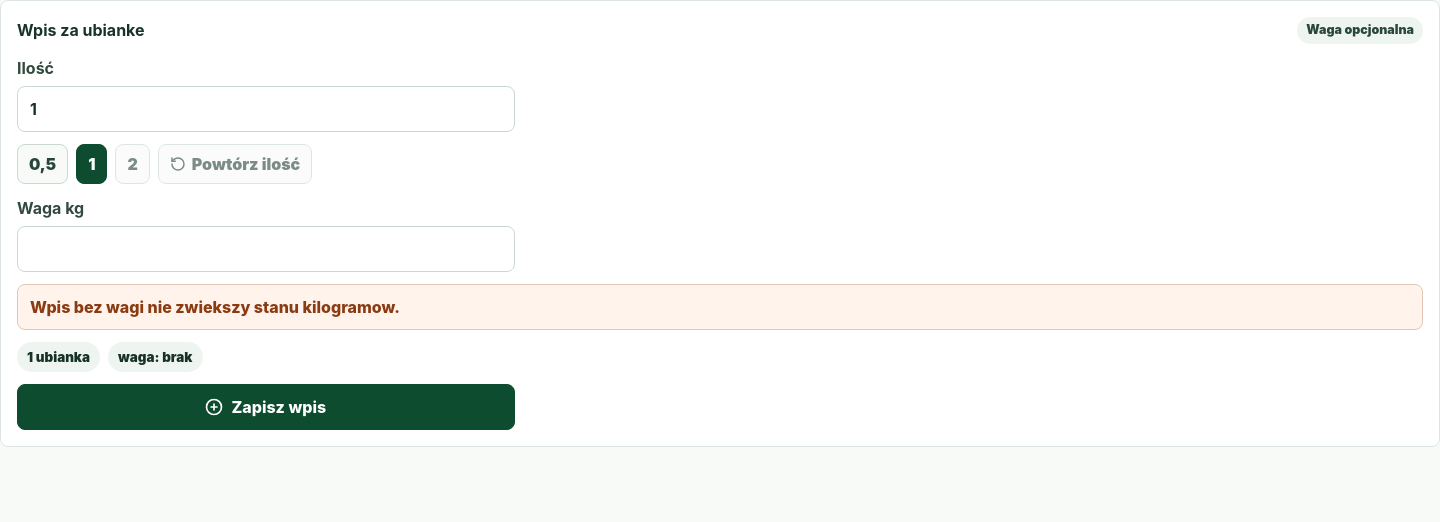
Test case: UbiankaEntryForm › blocks batch quantity when the plan does not allow it
Expected: the button "2" is disabled, [115,144,150,184]
Replace the text in the field labelled "Ilość" with "2" at coordinates (266, 109), box [17,86,514,132]
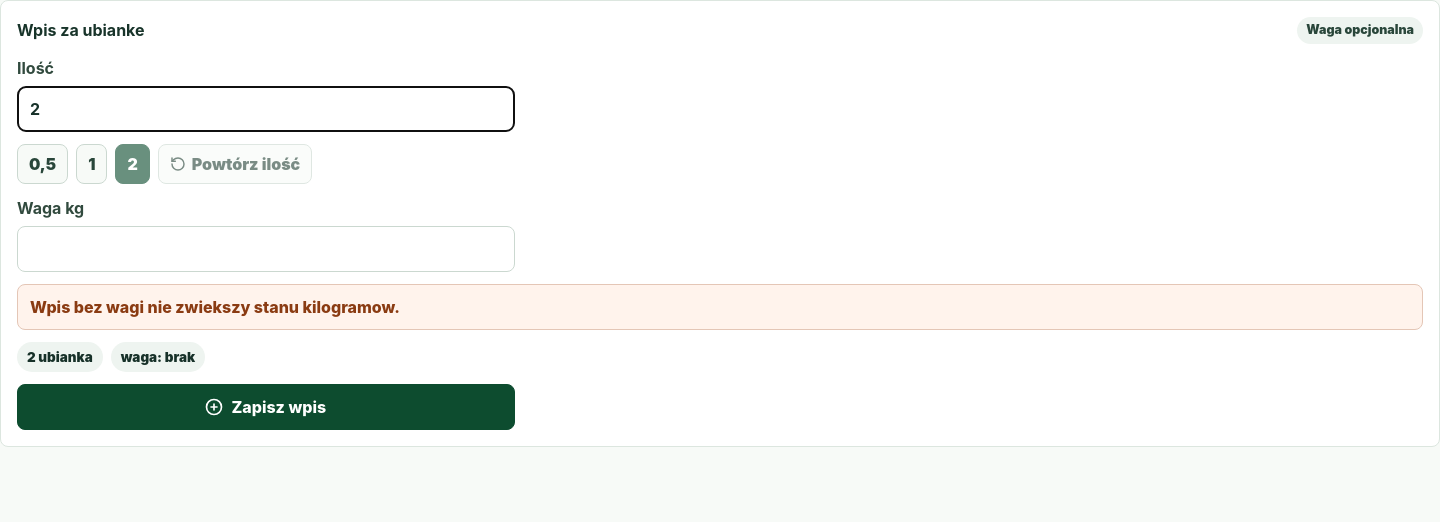
Click the button "Zapisz wpis" at coordinates (266, 407), box [17,384,514,430]
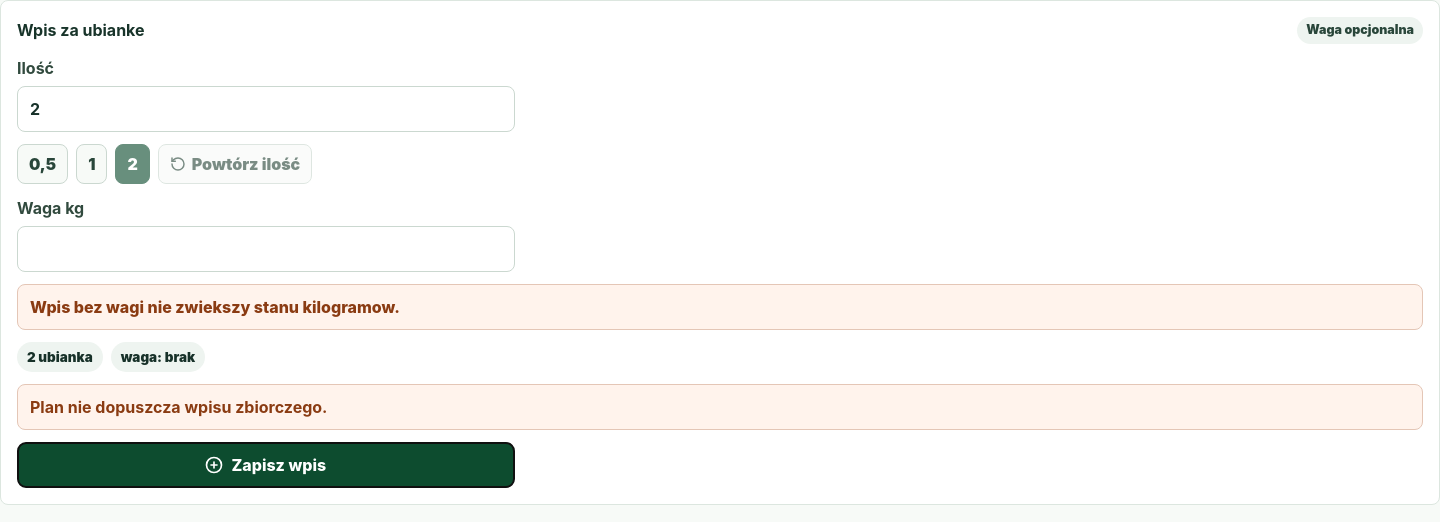
Result: the text "Plan nie dopuszcza wpisu zbiorczego." is shown at [17,384,1423,430]
